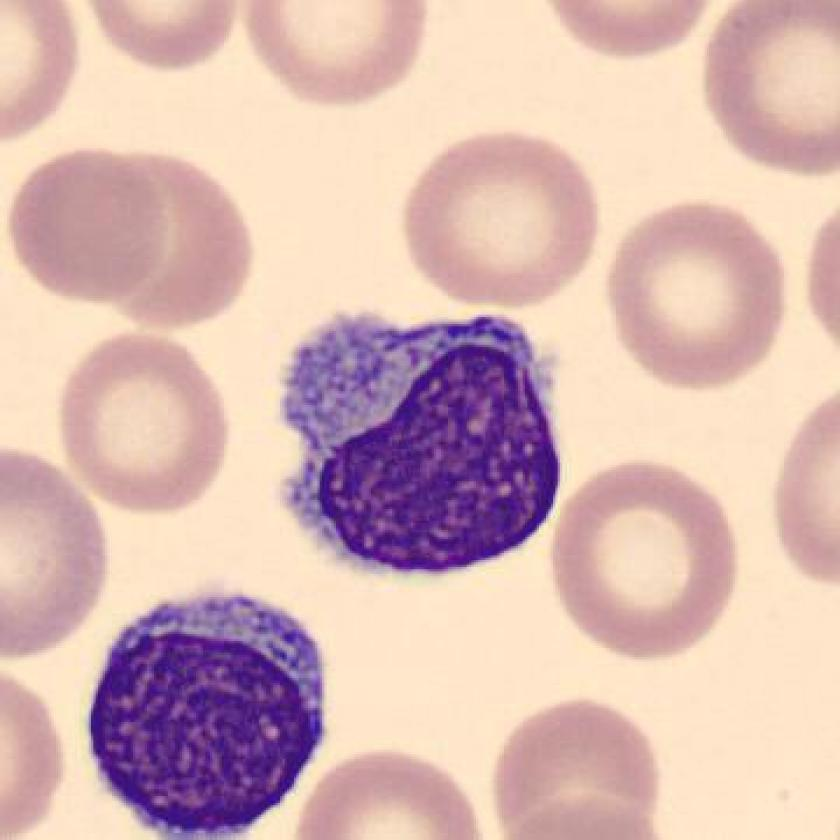lymphocyte: (258, 286, 594, 589)
